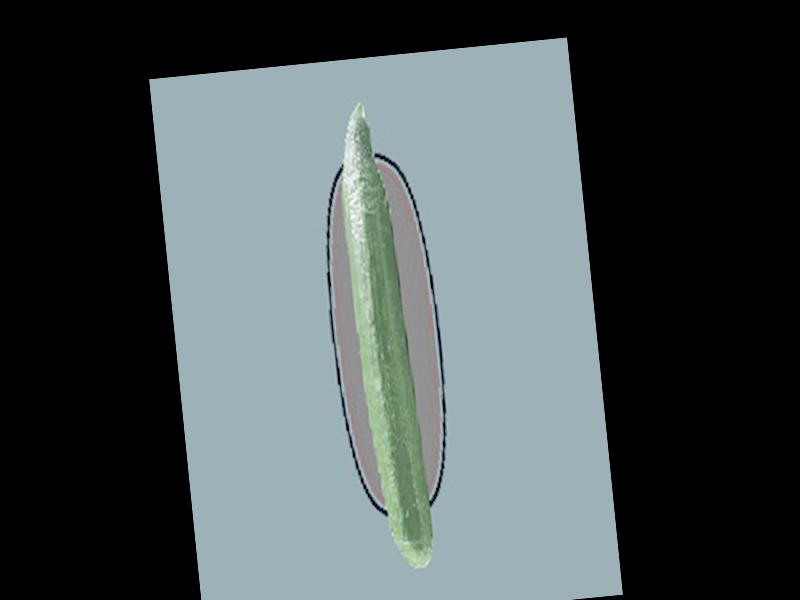Cucumber: (334, 99, 438, 573)
